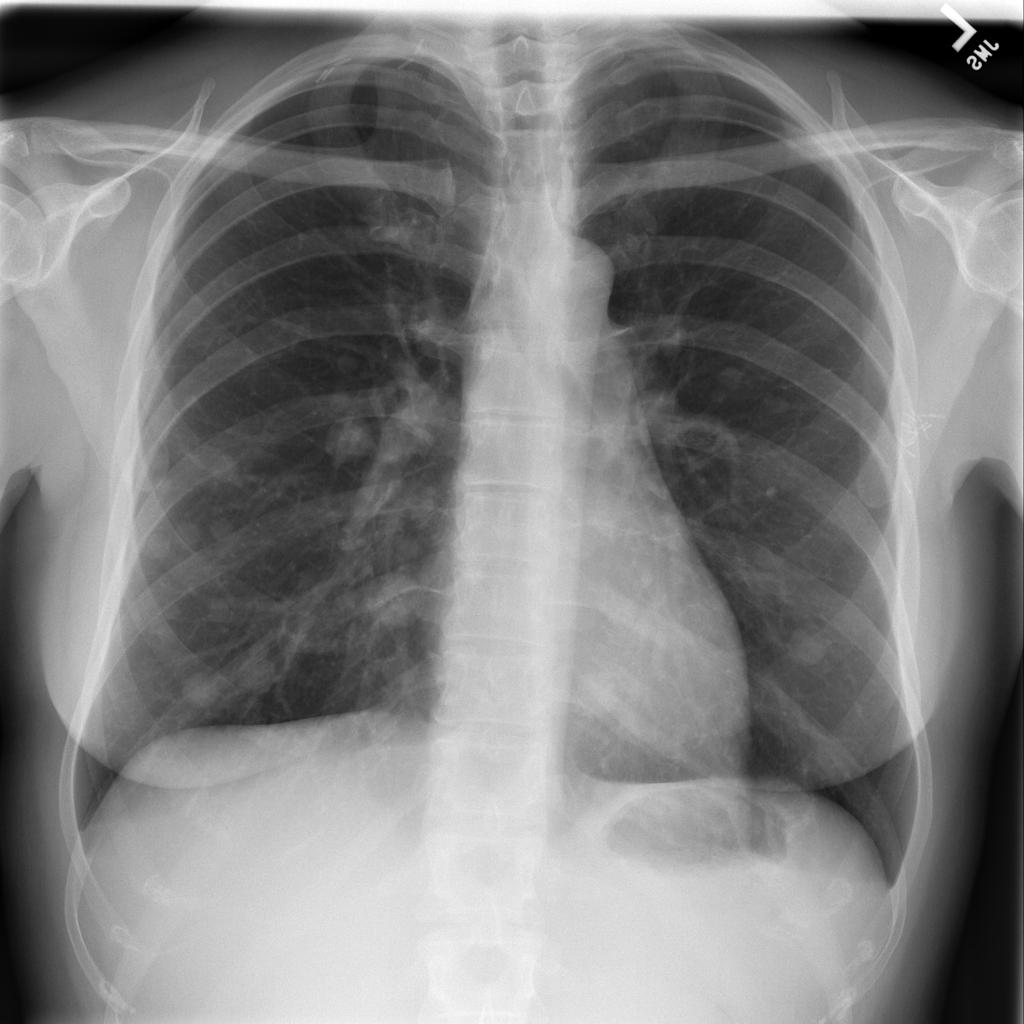nodule: (352, 564, 432, 638), (570, 650, 638, 730), (312, 403, 386, 474), (222, 634, 293, 706), (772, 611, 846, 679), (171, 661, 227, 711), (698, 353, 750, 403), (131, 515, 181, 566), (194, 584, 246, 633), (196, 502, 247, 551), (756, 383, 805, 431)
